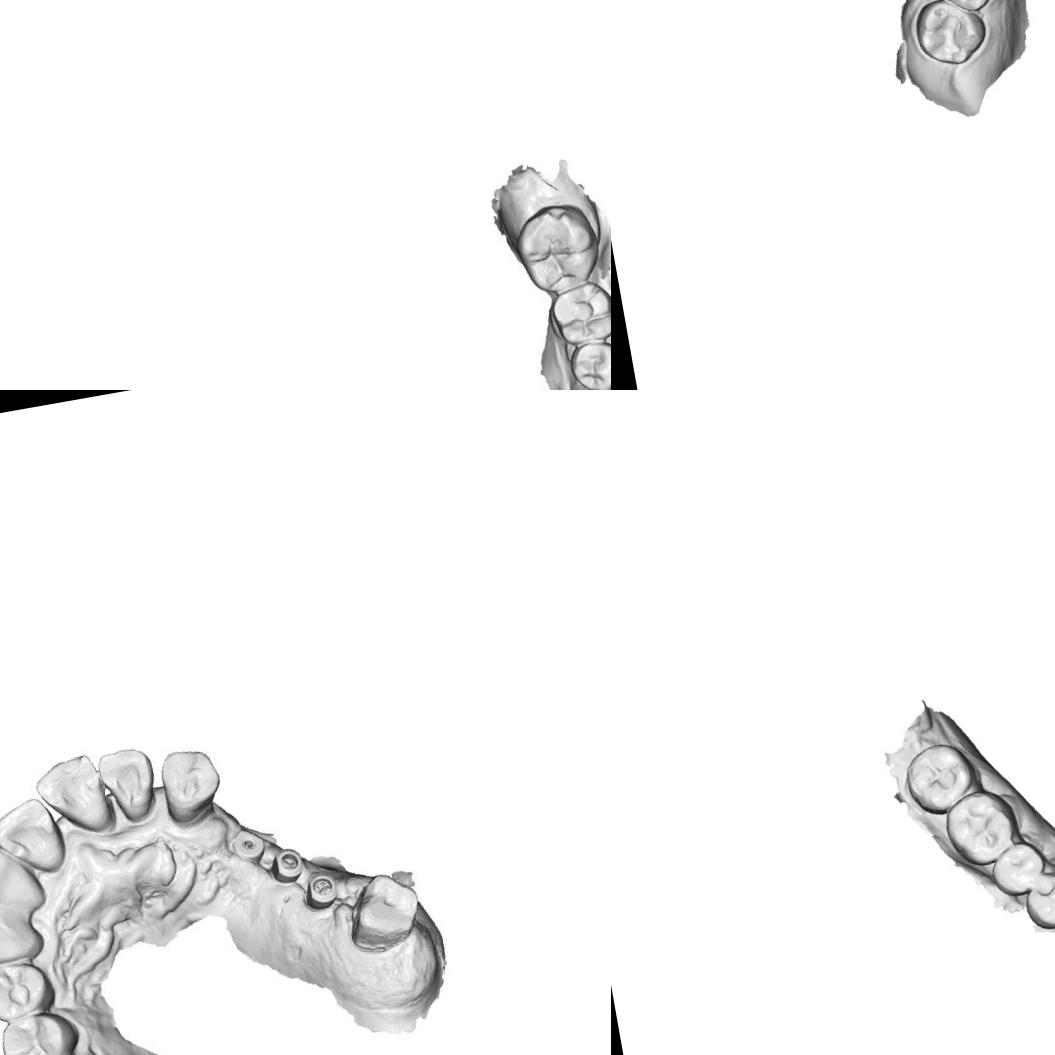canine: (152, 742, 227, 824), (0, 888, 50, 971)
crown: (338, 867, 431, 960)
implant: (222, 822, 269, 870), (302, 871, 340, 911), (269, 845, 308, 881)
incisor: (26, 748, 119, 844), (92, 738, 162, 828), (0, 791, 70, 881), (0, 839, 48, 915)
molar: (514, 196, 606, 296), (940, 784, 1024, 870), (900, 736, 980, 816), (908, 0, 991, 71), (549, 277, 611, 347), (920, 0, 1008, 19)
premolar: (984, 836, 1050, 899), (0, 955, 58, 1025), (0, 1005, 79, 1055), (1020, 867, 1055, 935), (570, 334, 611, 389)
